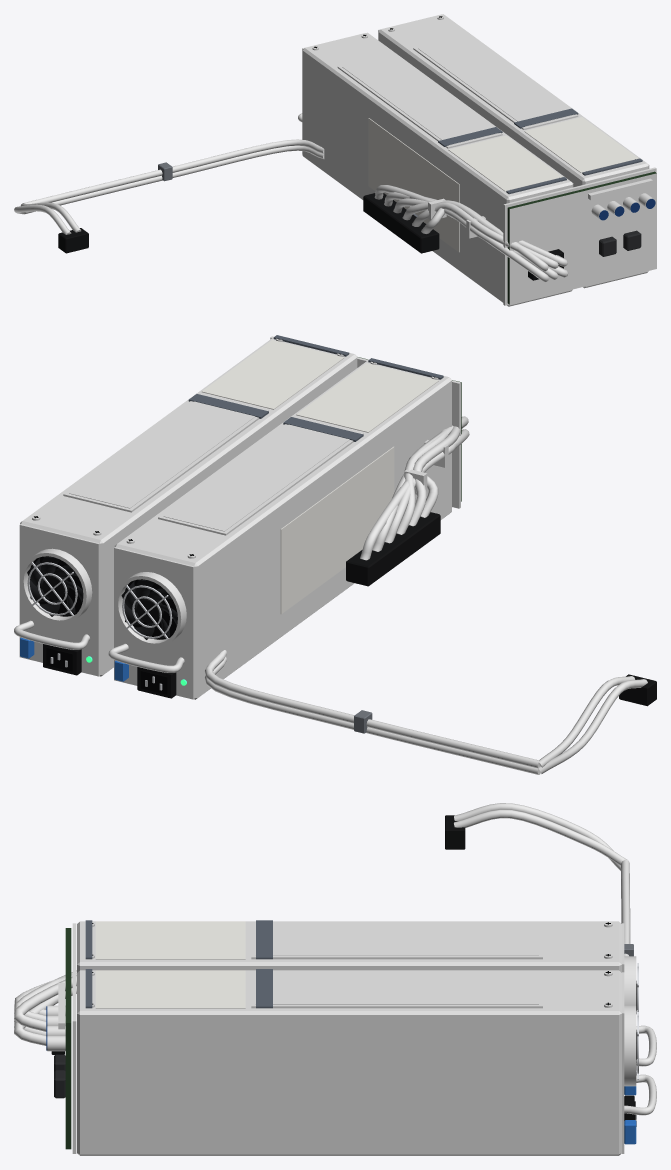
The model's file is hwm_psu_1000w_tit.glb.
3 renders of one model, top to bottom at view 1: azimuth 30°, elevation 25°; view 2: azimuth 150°, elevation 25°; view 3: azimuth 270°, elevation 25°, orthographic. The views are drawn at different scales.
Parts seen in each view (by area): view 1: Body, Cable_ATX24, Cable_EPS_Run, Cable_EPS_Plug; view 2: Body, Cable_ATX24, Cable_EPS_Run, Cable_EPS_Plug; view 3: Body, Cable_EPS_Plug, Cable_ATX24, Cable_EPS_Run.
Boxes of the visible parts, box(x1,y1,x2,y2) form: Body: box(298, 14, 656, 306); Cable_ATX24: box(363, 185, 568, 281); Cable_EPS_Run: box(23, 139, 324, 214); Cable_EPS_Plug: box(14, 202, 88, 253); Body: box(14, 335, 461, 699); Cable_ATX24: box(346, 416, 469, 586); Cable_EPS_Run: box(204, 650, 540, 774); Cable_EPS_Plug: box(538, 674, 656, 773); Body: box(46, 920, 656, 1155); Cable_EPS_Plug: box(445, 803, 627, 870); Cable_ATX24: box(14, 970, 76, 1054); Cable_EPS_Run: box(621, 859, 633, 956).
Bounding box in the file's own units: 0.4035 × 0.0958 × 0.3776.
